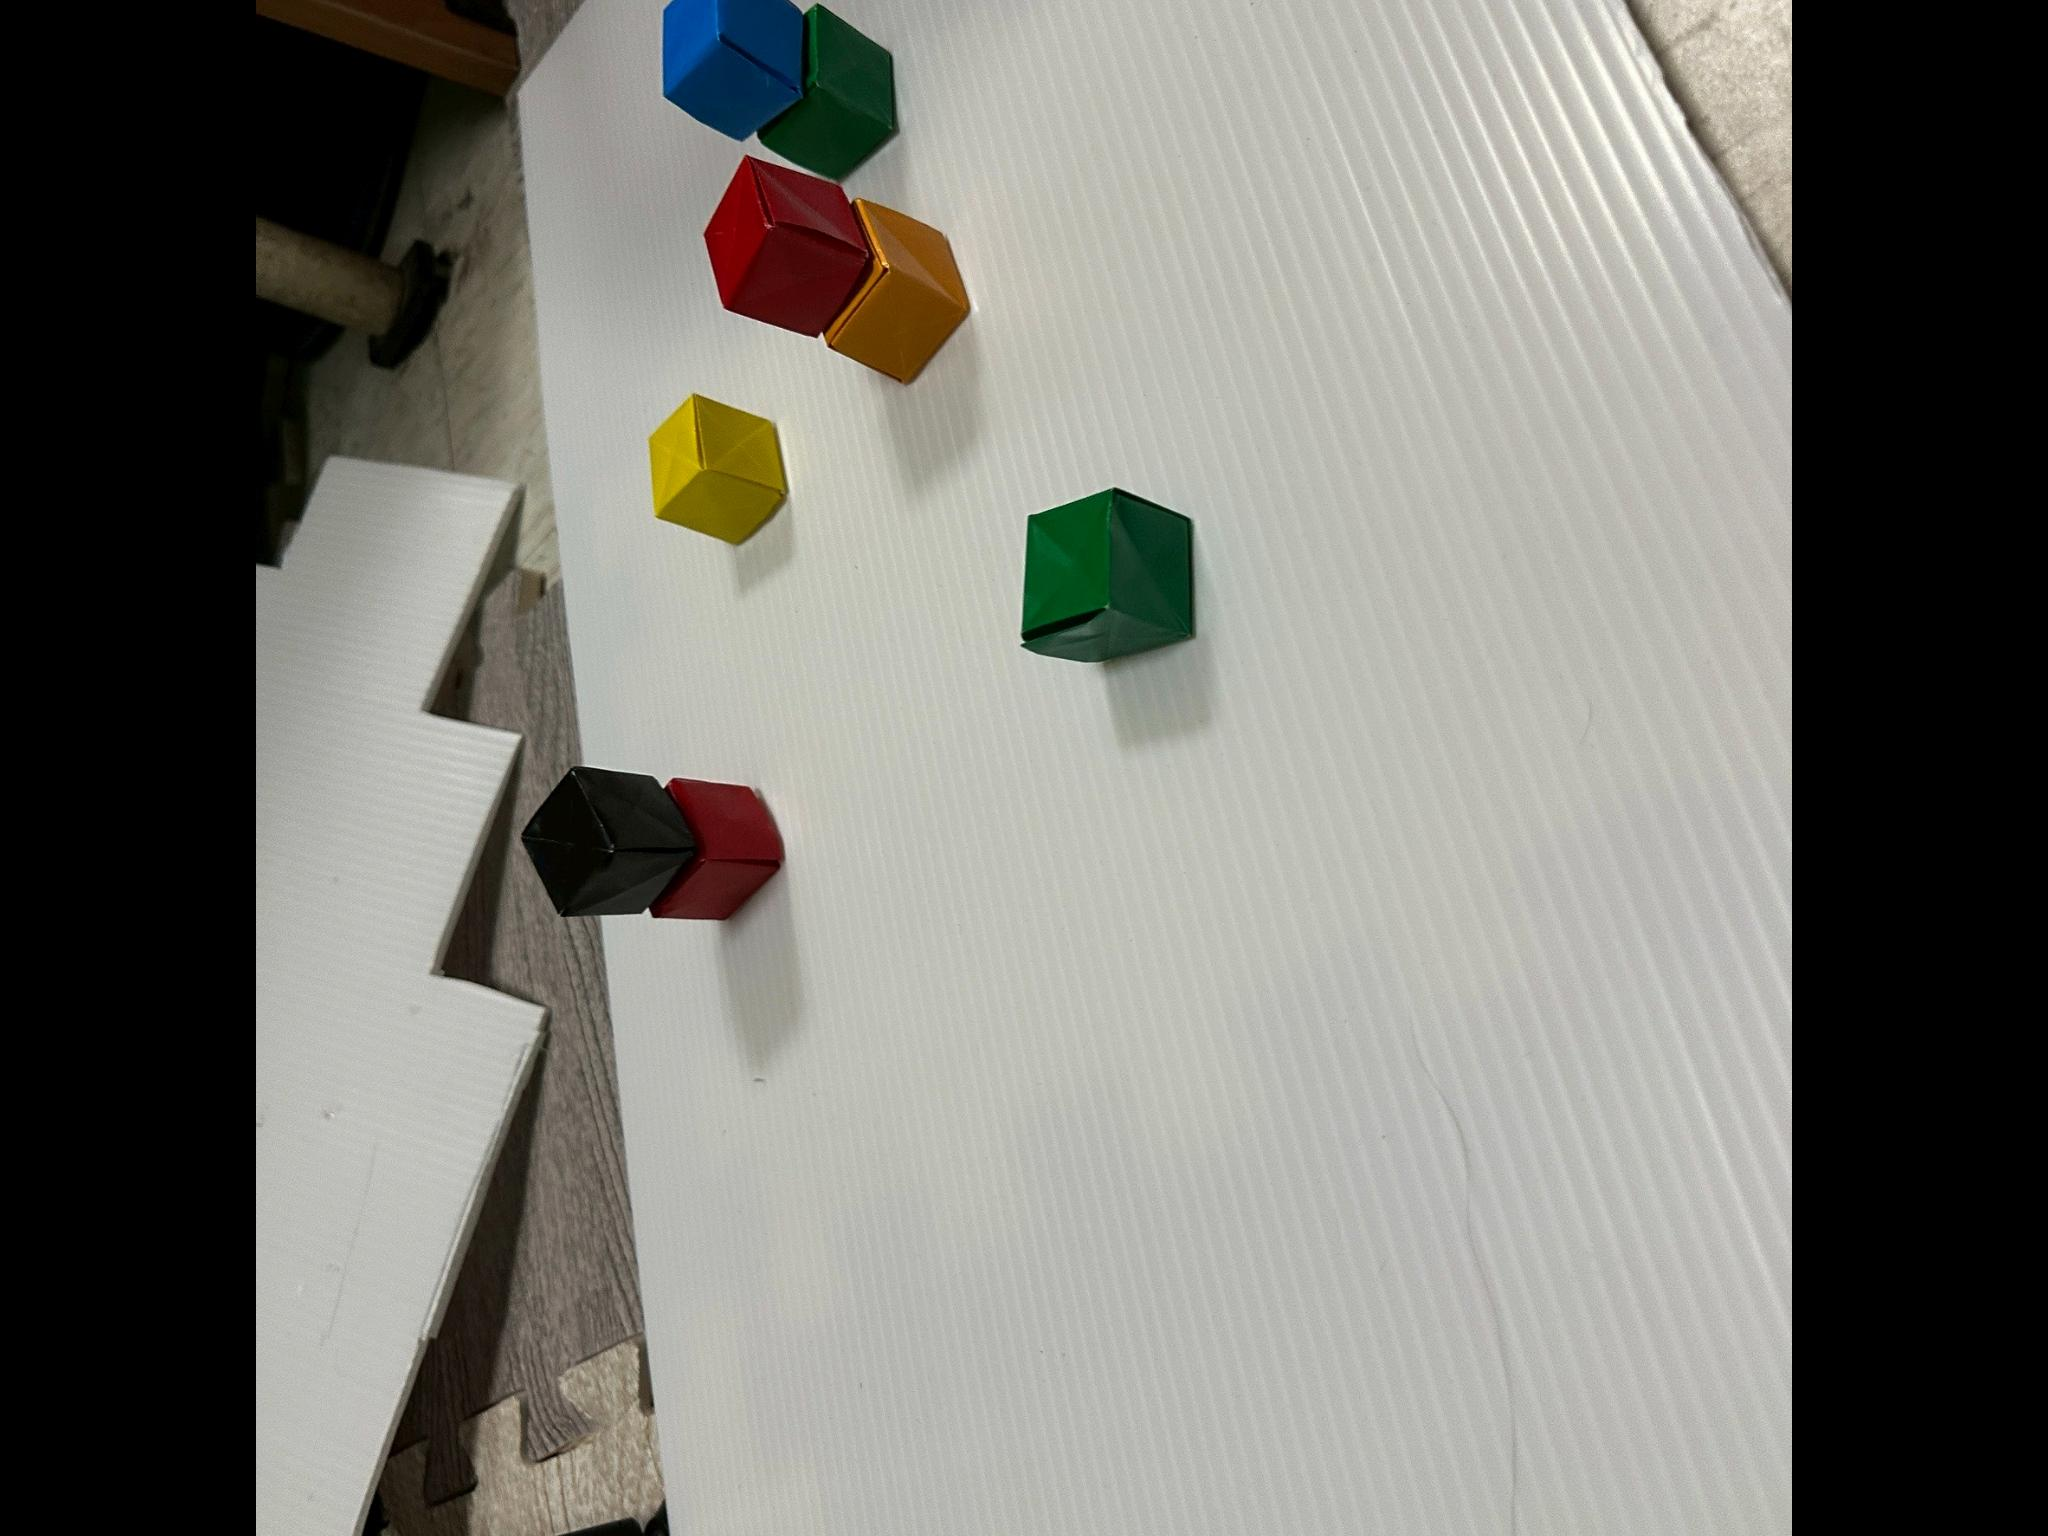base: (705, 155, 869, 334), (1022, 487, 1192, 660), (826, 197, 969, 382), (522, 766, 697, 915), (758, 3, 895, 177), (650, 394, 782, 542), (663, 0, 803, 139), (650, 778, 782, 918)
